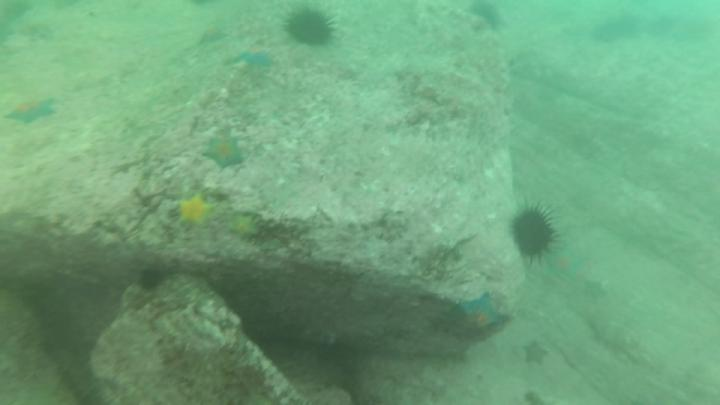echinus: (509, 197, 563, 266), (281, 3, 337, 48), (465, 1, 506, 33), (136, 266, 169, 294)
starfish: (451, 290, 509, 345), (3, 95, 62, 126), (175, 191, 219, 232), (203, 133, 249, 172), (543, 245, 587, 281), (238, 42, 278, 73), (230, 213, 266, 245), (522, 335, 551, 368), (581, 278, 609, 306), (199, 25, 232, 48)
